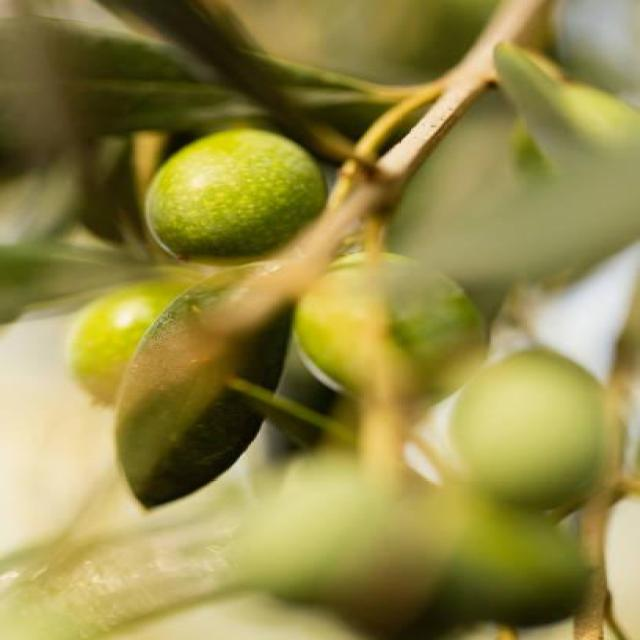Healthy: (144, 129, 325, 264)
